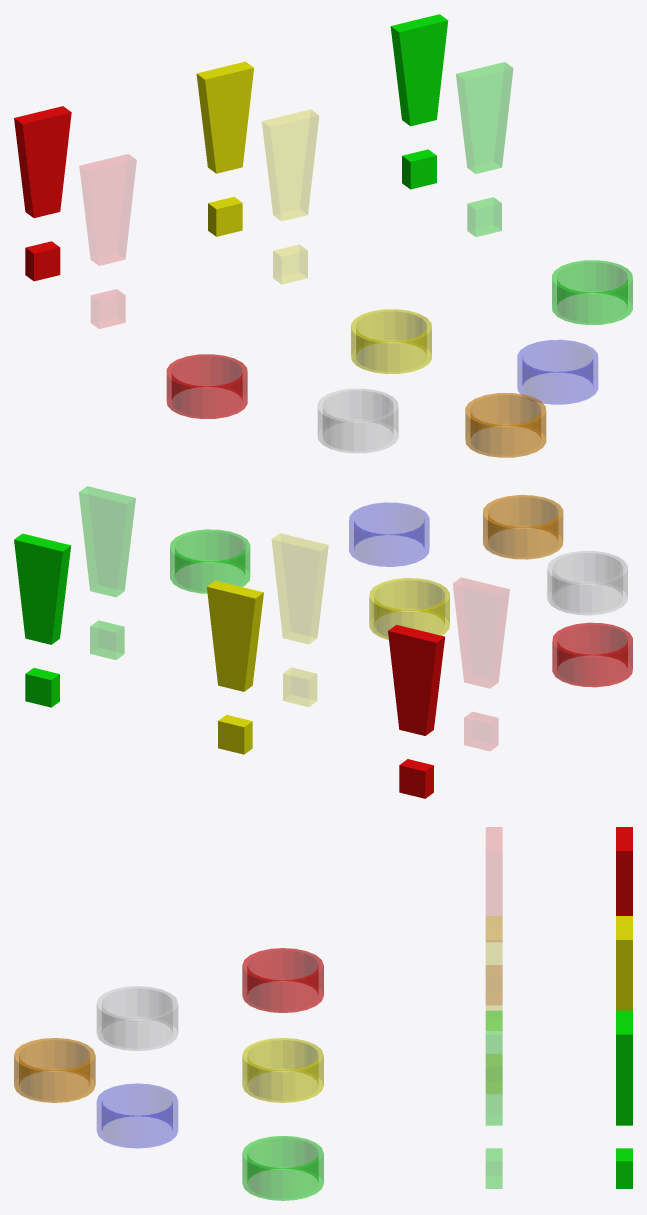
The model's file is INGAMEUI(WARNINGSANDINDICATOR).fbx.
3 renders of one model, top to bottom at view 1: azimuth 30°, elevation 25°; view 2: azimuth 150°, elevation 25°; view 3: azimuth 270°, elevation 25°, orthographic.
Parts seen in each view (by area): view 1: pCube4, pCube6, pCube2, pCube11, pCube8, pCube12, pCylinder4, pCylinder3, pCylinder6, pCylinder2, pCylinder1, pCylinder5 (+6 smaller); view 2: pCube6, pCube4, pCube2, pCube11, pCube8, pCube12, pCylinder6, pCylinder3, pCylinder4, pCylinder5, pCylinder2, pCylinder1 (+6 smaller); view 3: pCylinder4, pCylinder6, pCylinder1, pCylinder2, pCylinder3, pCylinder5, pCube6, pCube11, pCube8, pCube12, pCube2, pCube4 (+4 smaller).
Boxes of the visible parts, x1,y1,x2,y2 form: pCube4: (14, 106, 71, 217); pCube6: (390, 14, 448, 126); pCube2: (196, 61, 253, 173); pCube11: (456, 62, 513, 173); pCube8: (262, 109, 318, 220); pCube12: (79, 154, 136, 265); pCylinder4: (317, 388, 398, 453); pCylinder3: (166, 354, 247, 418); pCylinder6: (465, 393, 546, 457); pCylinder2: (552, 260, 632, 324); pCylinder1: (351, 309, 431, 374); pCylinder5: (517, 340, 597, 404); pCube6: (14, 533, 71, 644); pCube4: (388, 625, 444, 735); pCube2: (206, 580, 263, 691); pCube11: (79, 486, 135, 596); pCube8: (272, 533, 328, 643); pCube12: (453, 577, 509, 688); pCylinder6: (483, 495, 563, 559); pCylinder3: (552, 622, 632, 687); pCylinder4: (547, 551, 627, 615); pCylinder5: (349, 502, 429, 566); pCylinder2: (170, 529, 250, 593); pCylinder1: (369, 578, 449, 639); pCylinder4: (96, 986, 178, 1050); pCylinder6: (14, 1038, 95, 1102); pCylinder1: (242, 1038, 323, 1102); pCylinder2: (242, 1136, 323, 1200); pCylinder3: (242, 948, 323, 1012); pCylinder5: (97, 1083, 177, 1148); pCube6: (616, 1010, 632, 1125); pCube11: (486, 1011, 502, 1125); pCube8: (486, 916, 502, 1030); pCube12: (486, 827, 502, 941); pCube2: (616, 916, 632, 1010); pCube4: (616, 827, 632, 915).
Size of the model in its own units: 17.31 by 5.81 by 20.37.
